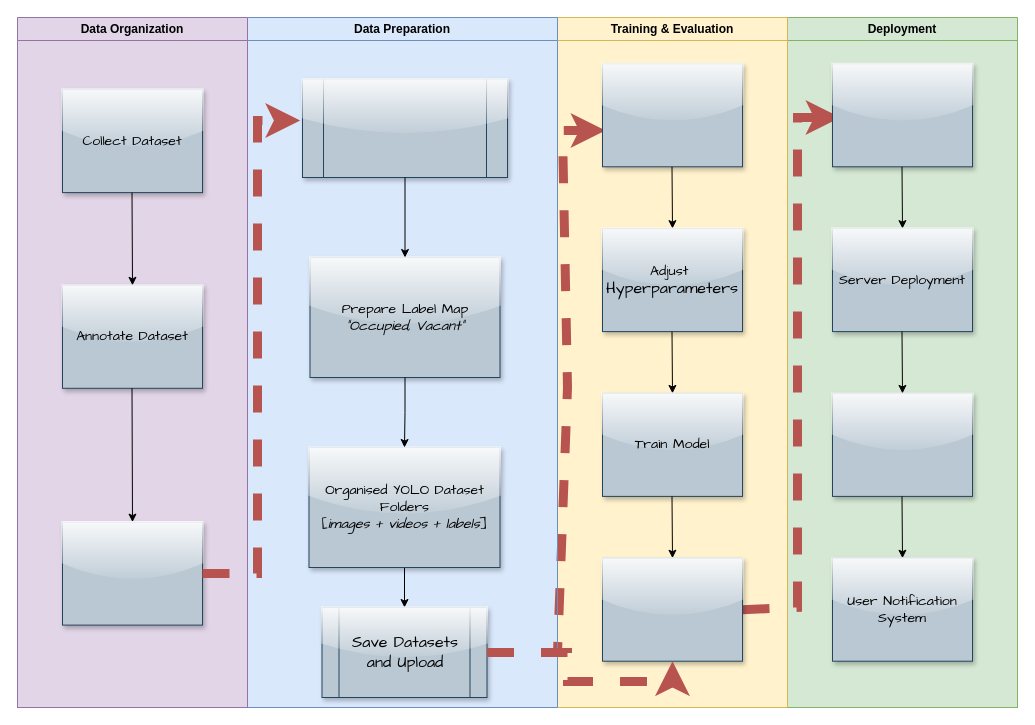
This 1035x725 diagram has some shape labels left out. The centre of each missing label's shape, as x and y in pixels:
Configure Model Architecture: pixel 673 116
Evaluate Model Performance: pixel 673 610
Export Annotations to YOLO format: pixel 406 129
Export Trained Model Weights: pixel 903 116
Generate Dataset Versions "Train,Val,Test": pixel 133 574
Web & Mobile Application Build and Integration: pixel 903 445
